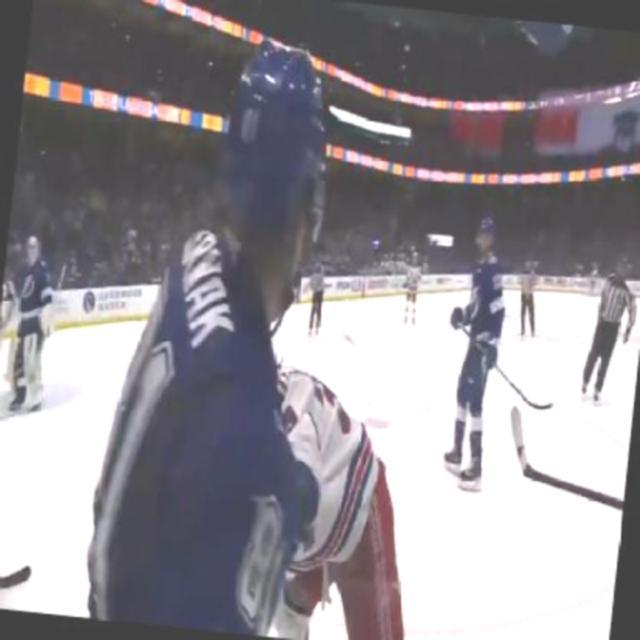non-fight: (82, 24, 464, 638), (426, 207, 517, 495)
